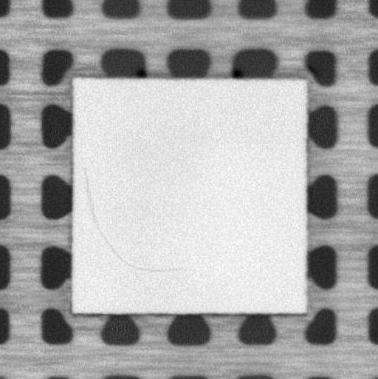DIE_CRACK: (79, 168, 176, 274)
